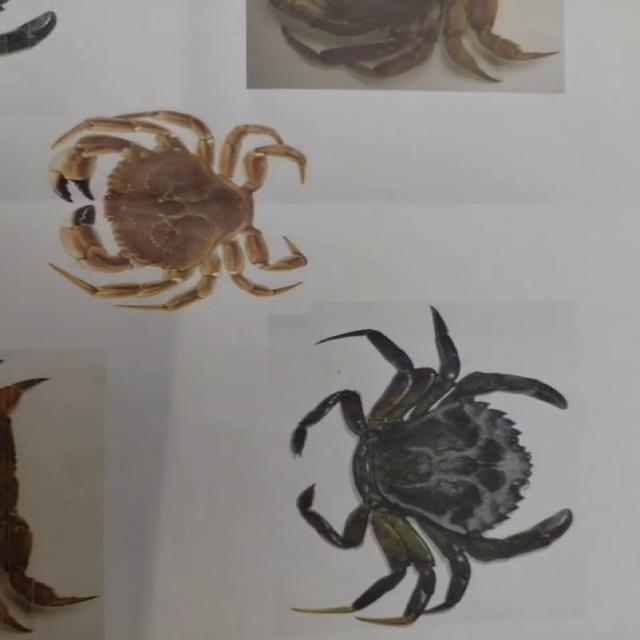egc: (291, 306, 572, 626)
